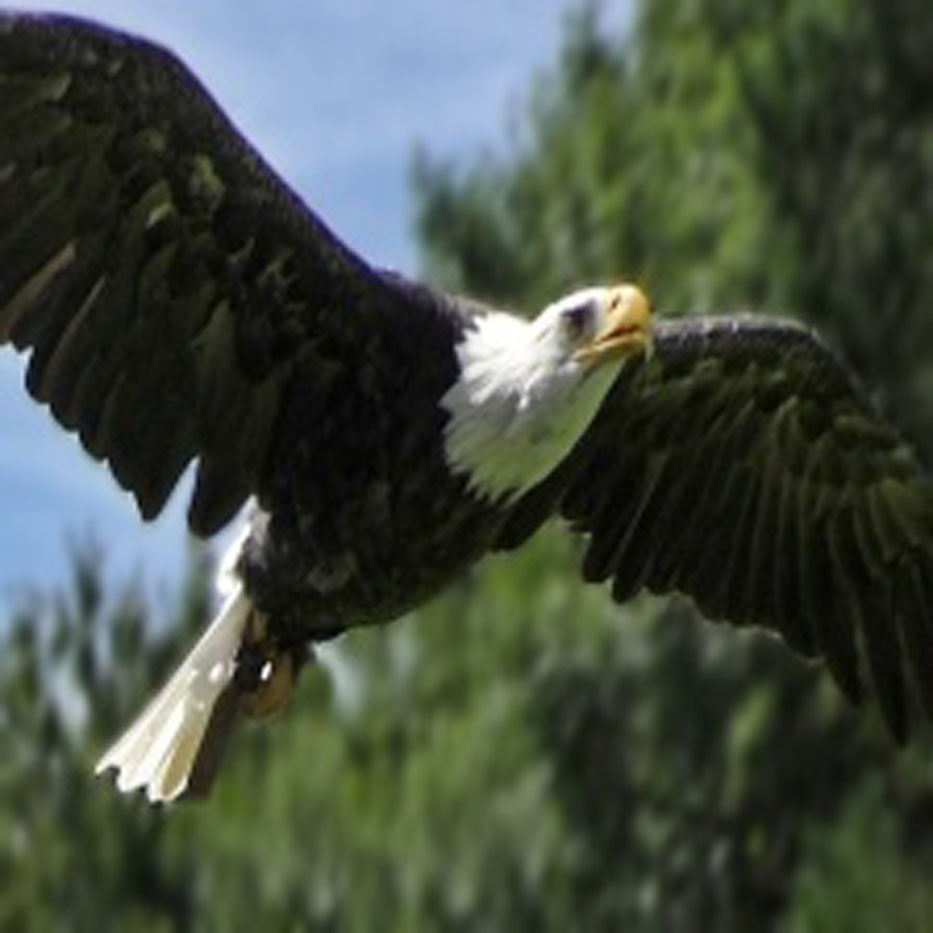Pengoyak Daging: (591, 283, 655, 367)
